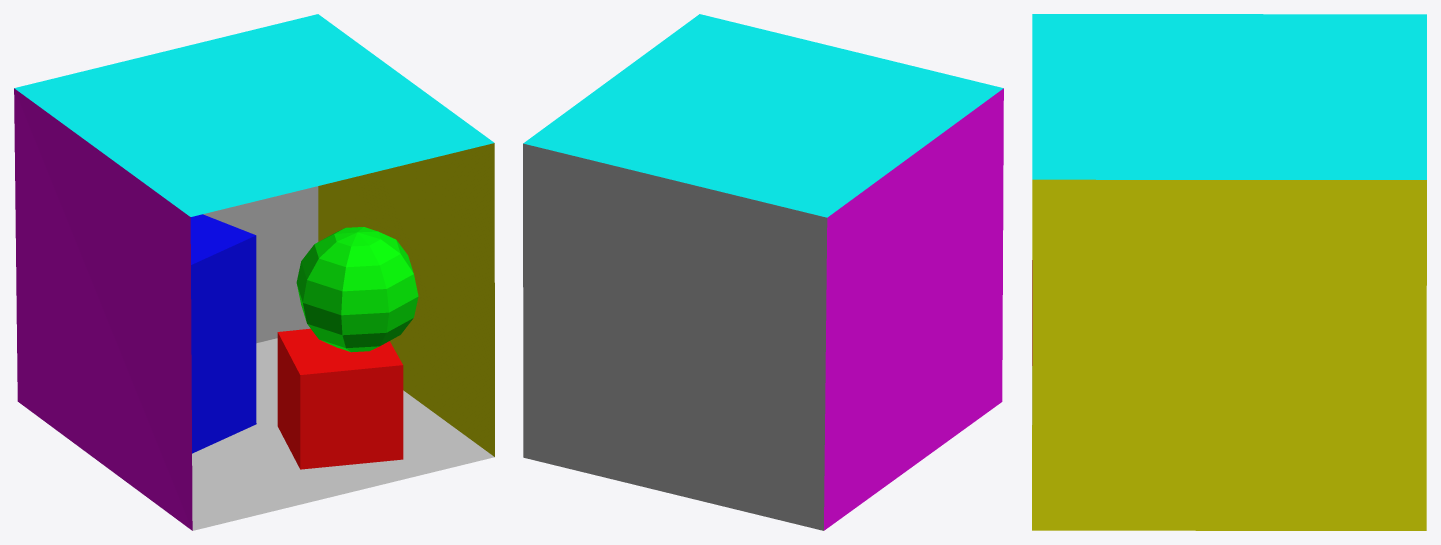
File: textured-cornell-box.obj
3 renders of one model, left to right at view 1: azimuth 30°, elevation 25°; view 2: azimuth 150°, elevation 25°; view 3: azimuth 270°, elevation 25°, orthographic. The views are drawn at different scales.
Parts seen in each view (by area): view 1: left_wall, ceiling, right_wall, floor, short_box, tall_box, sphere_on_short_box, back_wall; view 2: back_wall, left_wall, ceiling; view 3: right_wall, ceiling.
Part boxes in pixels (<box>): left_wall: <box>14,88,192,530</box>; ceiling: <box>14,14,494,216</box>; right_wall: <box>318,143,494,456</box>; floor: <box>192,338,494,530</box>; short_box: <box>277,328,403,469</box>; tall_box: <box>190,214,256,453</box>; sphere_on_short_box: <box>296,227,418,352</box>; back_wall: <box>203,186,318,343</box>; back_wall: <box>523,143,827,530</box>; left_wall: <box>824,88,1003,530</box>; ceiling: <box>523,14,1003,217</box>; right_wall: <box>1032,179,1426,530</box>; ceiling: <box>1032,14,1426,179</box>.
Size of the model in its own units: 5.56 by 5.49 by 5.6.
